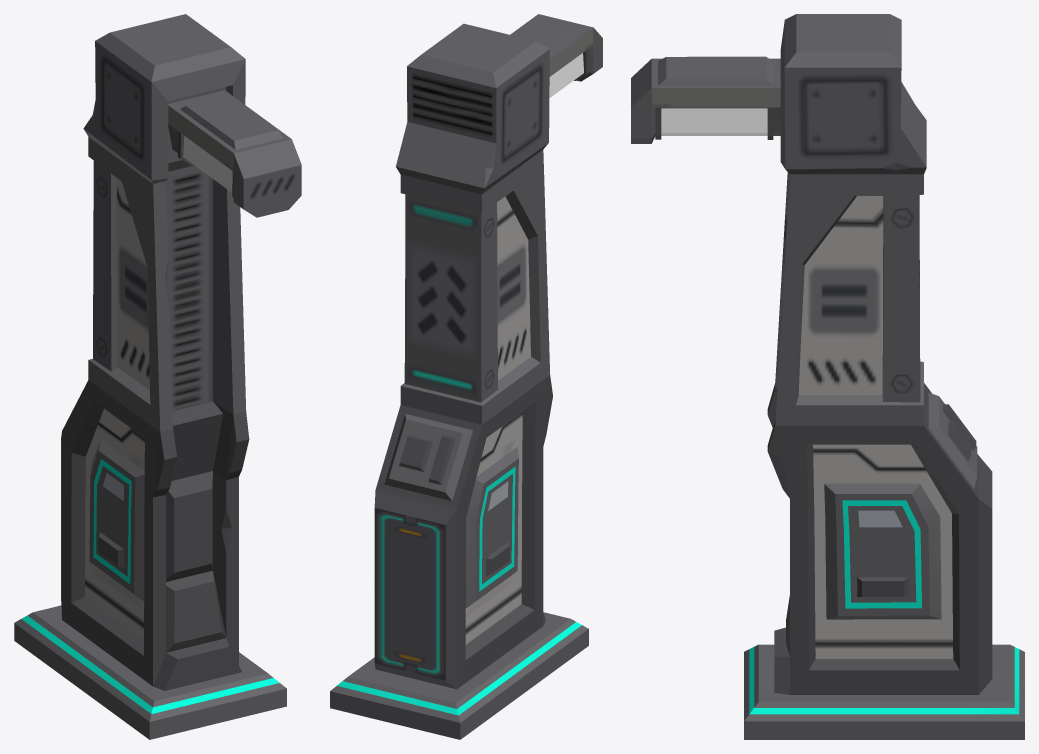
File: SM_Prop_Street_Light_Large_02.fbx
3 views of the same model, side by side, from view 1: azimuth 30°, elevation 25°; view 2: azimuth 150°, elevation 25°; view 3: azimuth 270°, elevation 25° (orthographic). The views are drawn at different scales.
Visible parts, largest first — view 1: SM_Prop_Street_Light_Large_02; view 2: SM_Prop_Street_Light_Large_02; view 3: SM_Prop_Street_Light_Large_02.
Part boxes in pixels (x1,y1,x2,y2): SM_Prop_Street_Light_Large_02: (14, 14, 301, 739); SM_Prop_Street_Light_Large_02: (330, 14, 602, 739); SM_Prop_Street_Light_Large_02: (631, 14, 1024, 739).
Size of the model in its own units: 66.28 by 299 by 159.
